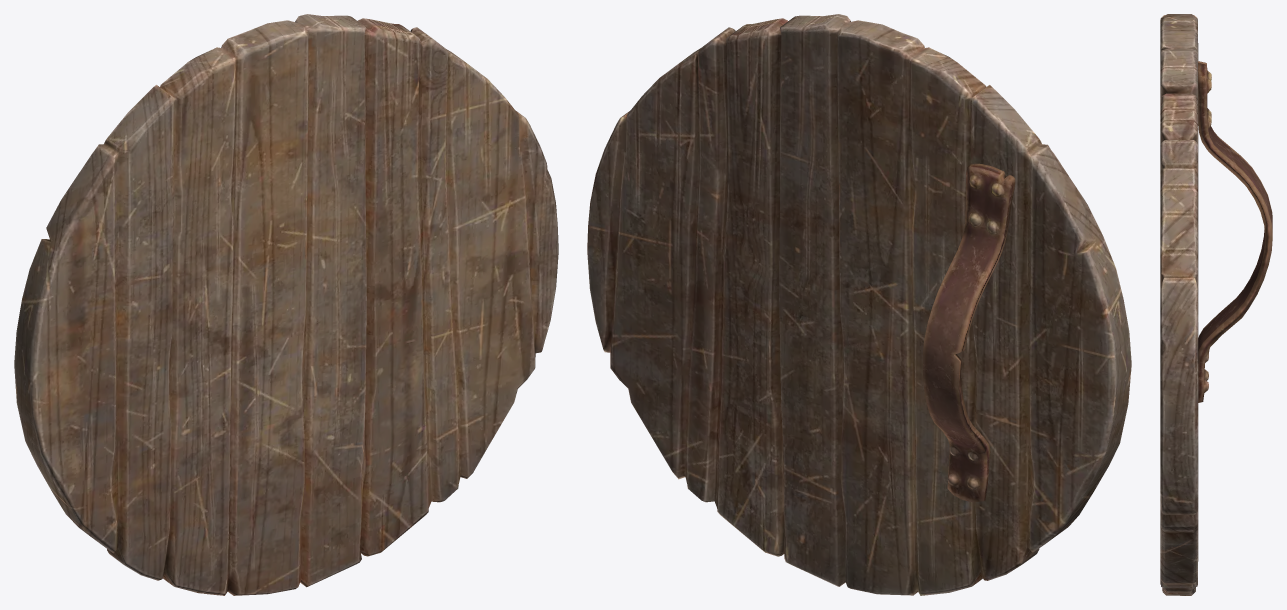
3 renders of one model, left to right at view 1: azimuth 30°, elevation 25°; view 2: azimuth 150°, elevation 25°; view 3: azimuth 270°, elevation 25°, orthographic. The views are drawn at different scales.
Visible parts, largest first — view 1: SM_Kite_Wood_1H_01_LOD0; view 2: SM_Kite_Wood_1H_01_LOD0; view 3: SM_Kite_Wood_1H_01_LOD0.
Part boxes in pixels (<box>): SM_Kite_Wood_1H_01_LOD0: <box>14,14,558,595</box>; SM_Kite_Wood_1H_01_LOD0: <box>587,14,1131,595</box>; SM_Kite_Wood_1H_01_LOD0: <box>1160,14,1272,595</box>.
Bounding box in the file's own units: 0.6288 × 0.6345 × 0.122.
Materials: 1 (1 with a texture image).
